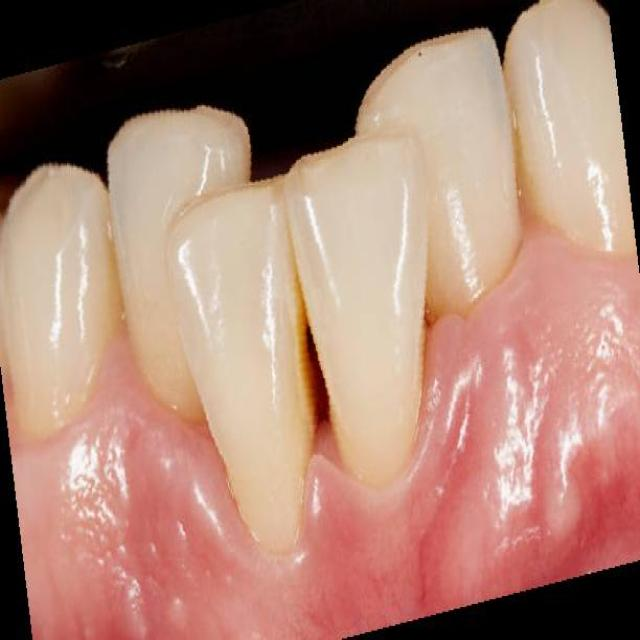caries: (289, 282, 352, 463)
